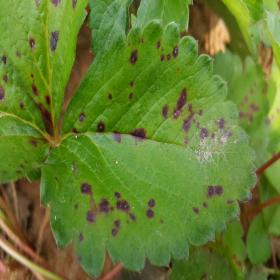Leaf Spot: (39, 18, 258, 279), (212, 48, 274, 169), (0, 45, 52, 183), (164, 241, 235, 279), (211, 221, 248, 279), (266, 67, 279, 156)
